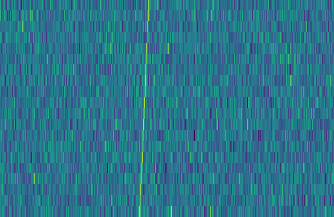signal: (135, 0, 153, 217)
